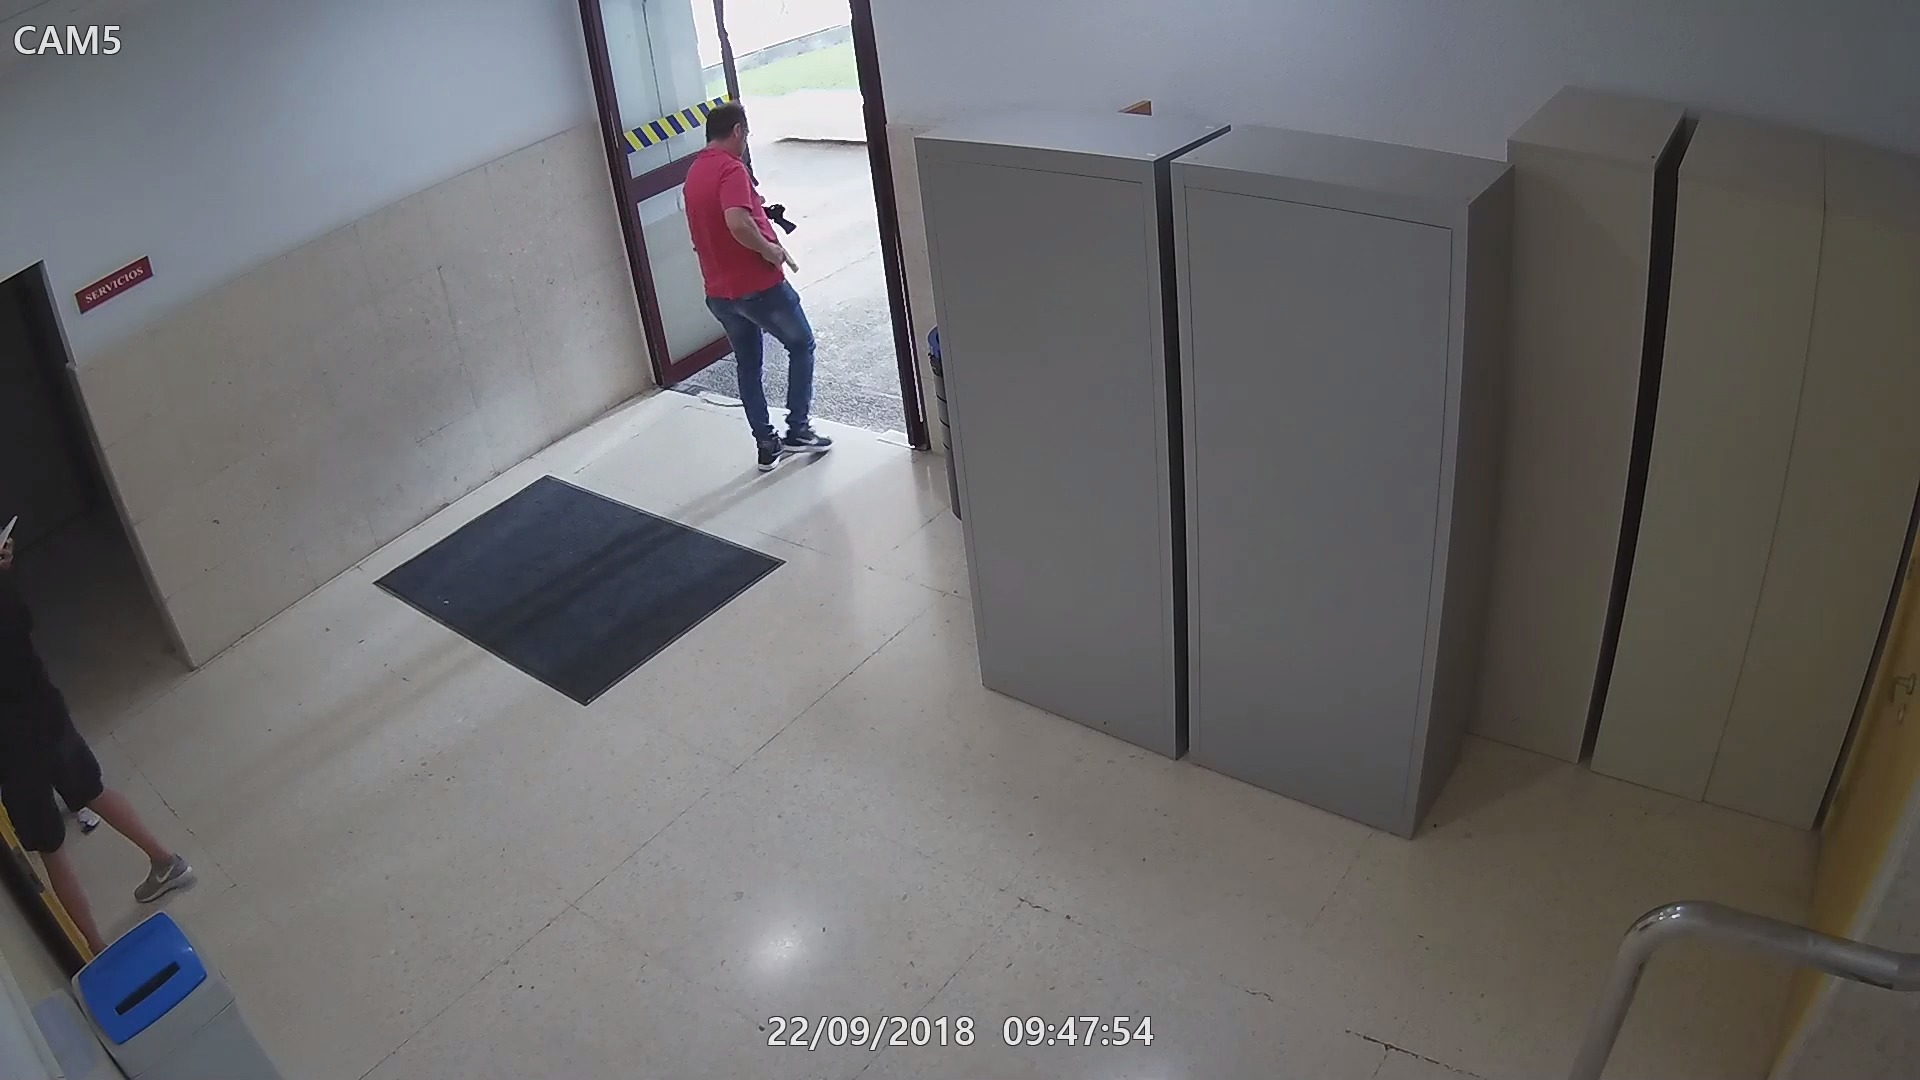Handgun: (760, 236, 802, 274)
Short_rifle: (764, 200, 796, 231)
